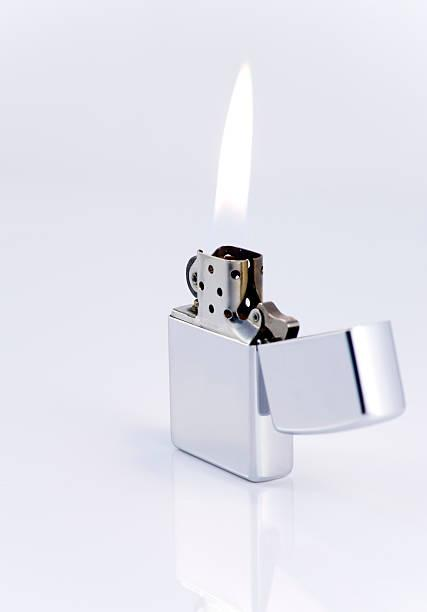Fire: (211, 55, 265, 240)
